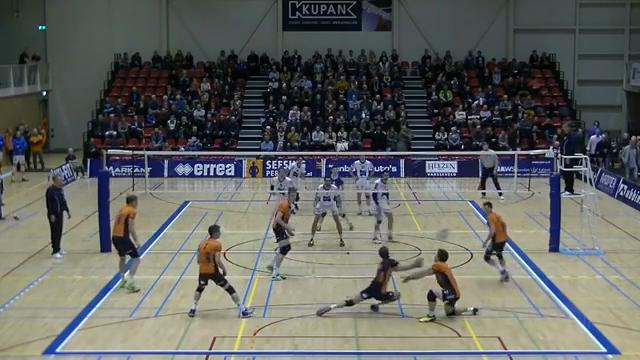Dig: (313, 243, 425, 318), (399, 247, 479, 323)
Player: (188, 224, 253, 317), (266, 187, 295, 280), (112, 195, 139, 291), (308, 176, 344, 246), (483, 202, 508, 281), (372, 171, 393, 242), (350, 156, 373, 214), (270, 168, 296, 197), (288, 158, 305, 188), (337, 201, 353, 229)
ball: (435, 226, 449, 240)
